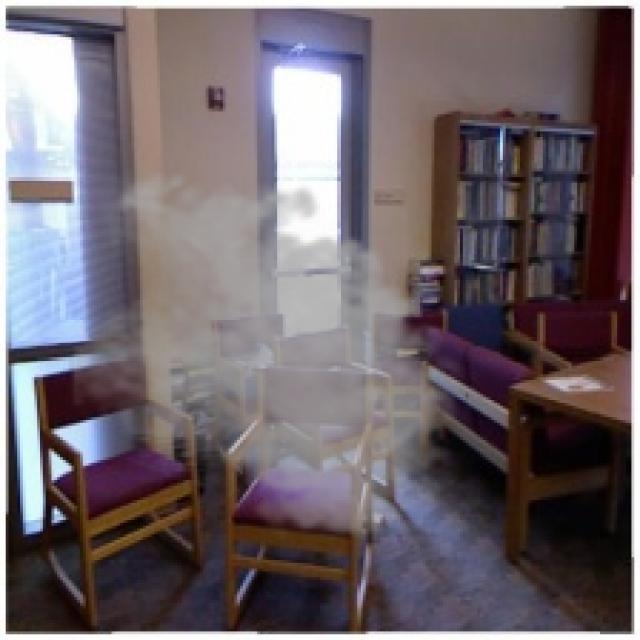smoke: (69, 160, 472, 546)
